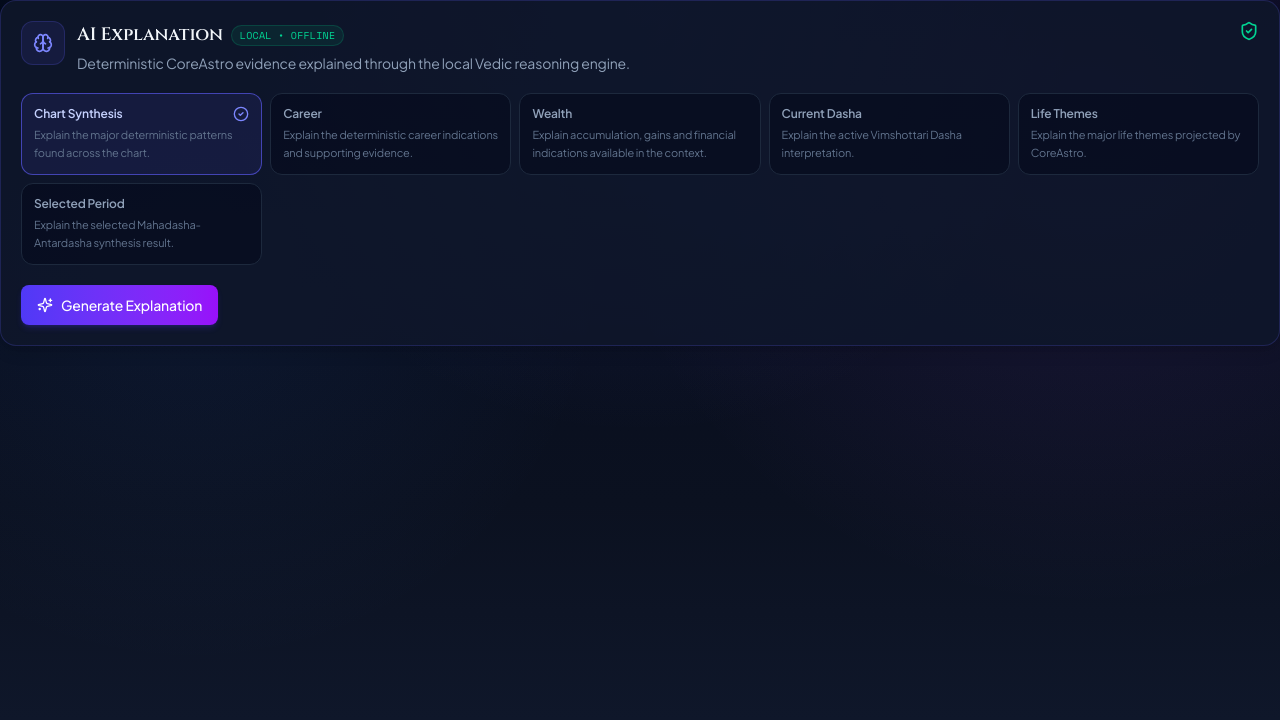
Scenario: AiExplanationPanel › resets result when canonical analysis changes
This screenshot has width=1280, height=720.
Click the button "Generate Explanation": (120, 304) [21,284,218,324]
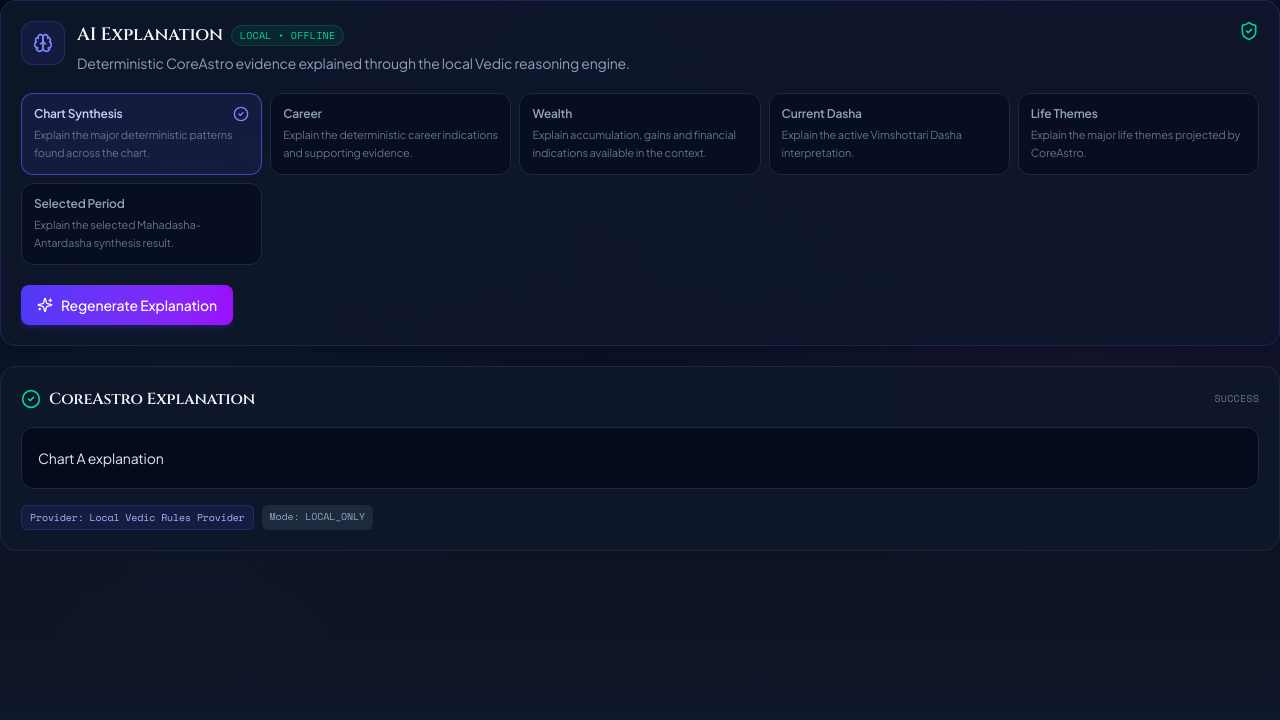
Check: the text "Chart A explanation" is shown, box [38,448,164,466]
